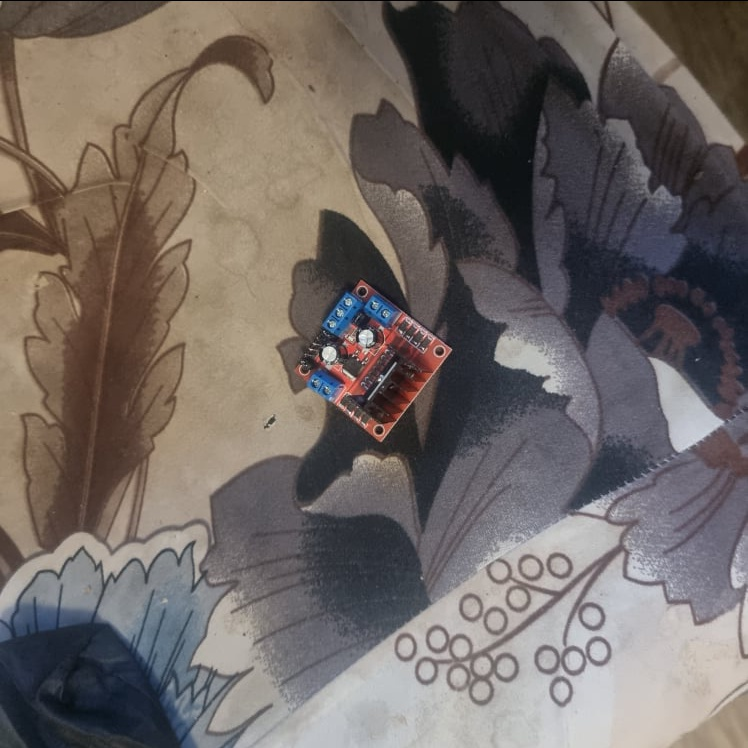MOTOR: (297, 279, 453, 443)
